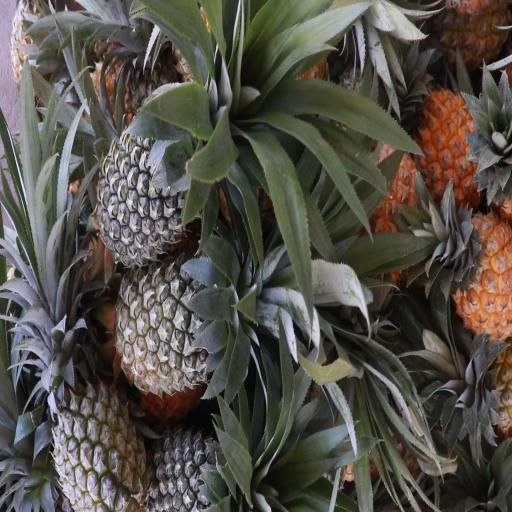------------------------------: (46, 342, 145, 511), (116, 257, 236, 392)
Pineapple - v8 v1: (433, 205, 512, 334), (418, 85, 498, 193)
